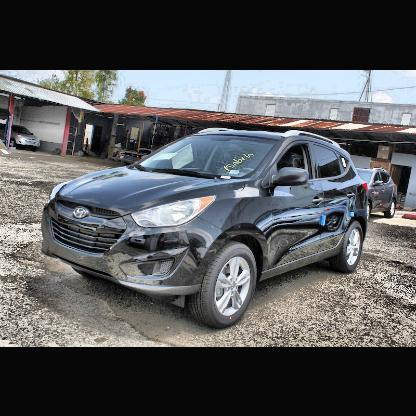Hyundai Tucson SUV 2012: (41, 126, 369, 331)
